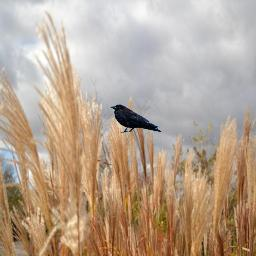Crow: (109, 104, 162, 133)
